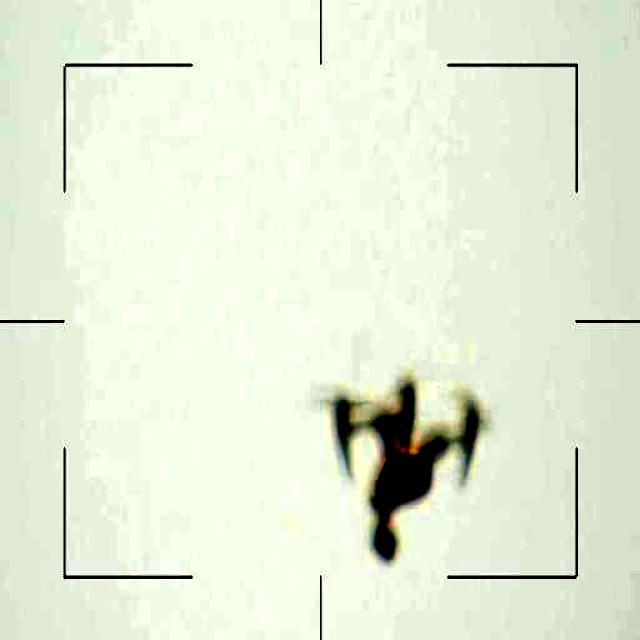bird: (328, 356, 495, 562)
